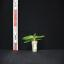leaf: (22, 35, 34, 40), (24, 38, 34, 43), (34, 36, 45, 39), (26, 40, 34, 43), (33, 33, 36, 38), (35, 38, 42, 40)
